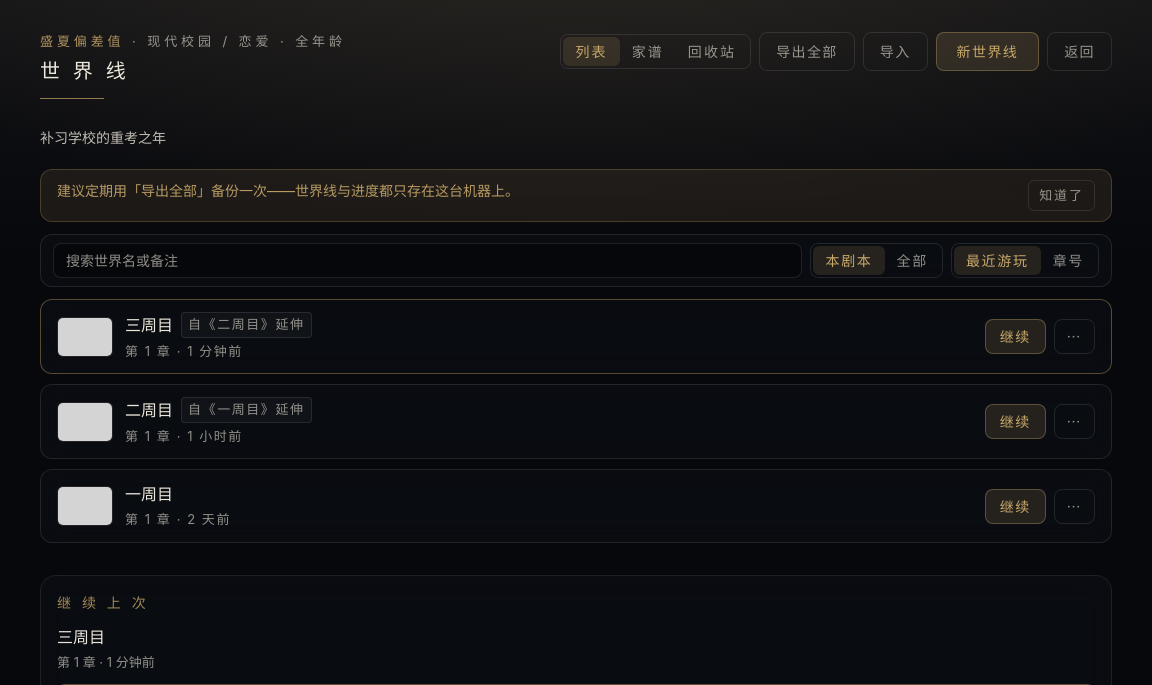
Test: WorldsScreen：家谱视图（v1.7） › 视图切换：家谱渲染 SVG 森林（节点+父子连线）并卸载列表行，切回列表恢复
Expected: the option with test id "world-row-w1" is shown, [57,484,231,527]
Step 1. Click the button with test id "worlds-view-genealogy" → (648, 52), box [620,37,676,66]
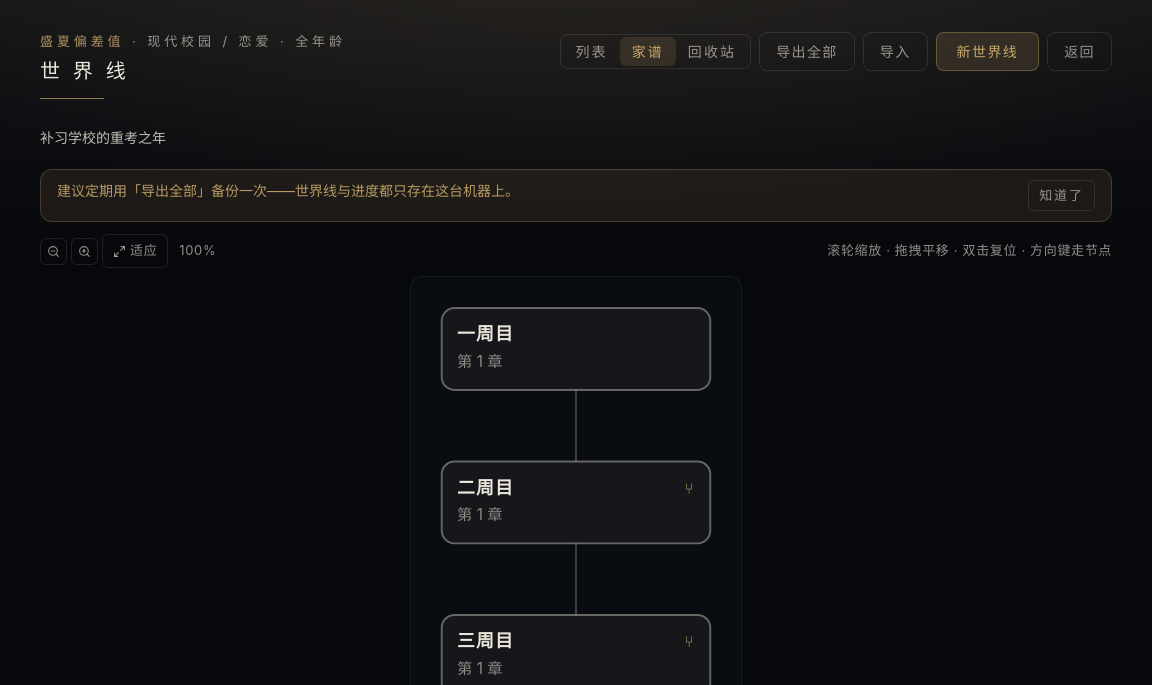
Expected: the element with test id "genealogy-node-w1" is shown, [457,323,514,371]
Expected: the option with test id "world-row-w1" is gone
Step 2. Click the button with test id "worlds-view-list" → (592, 52), box [563,37,620,66]
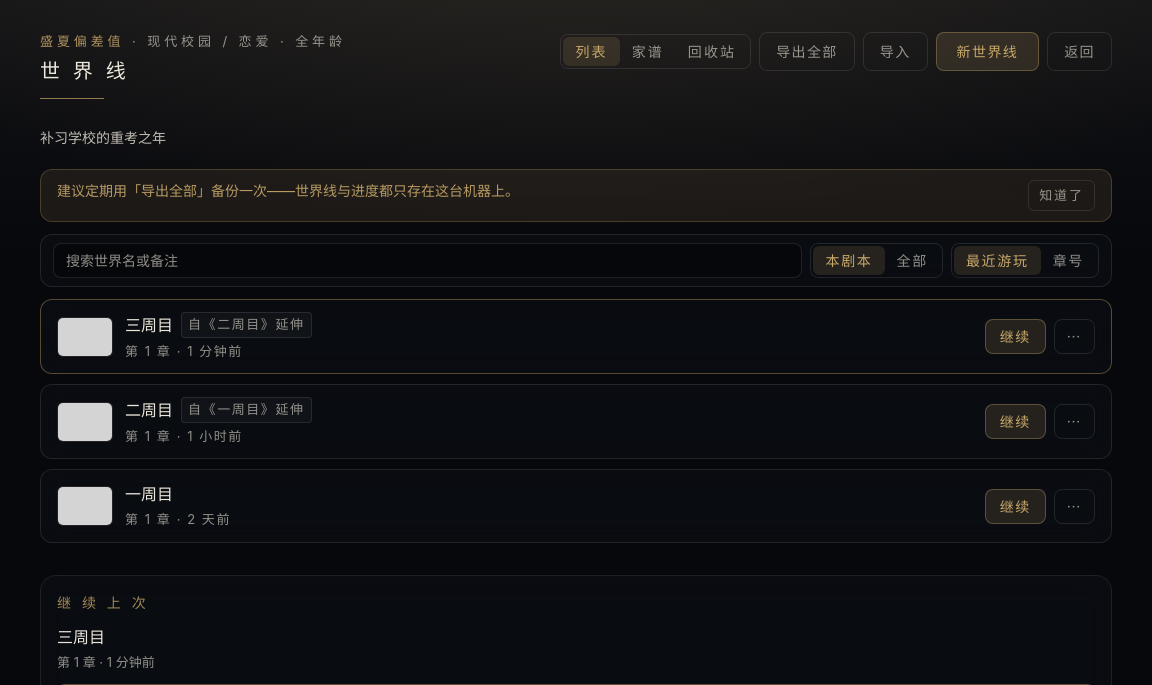
Expected: the option with test id "world-row-w1" is shown, [57,484,231,527]
